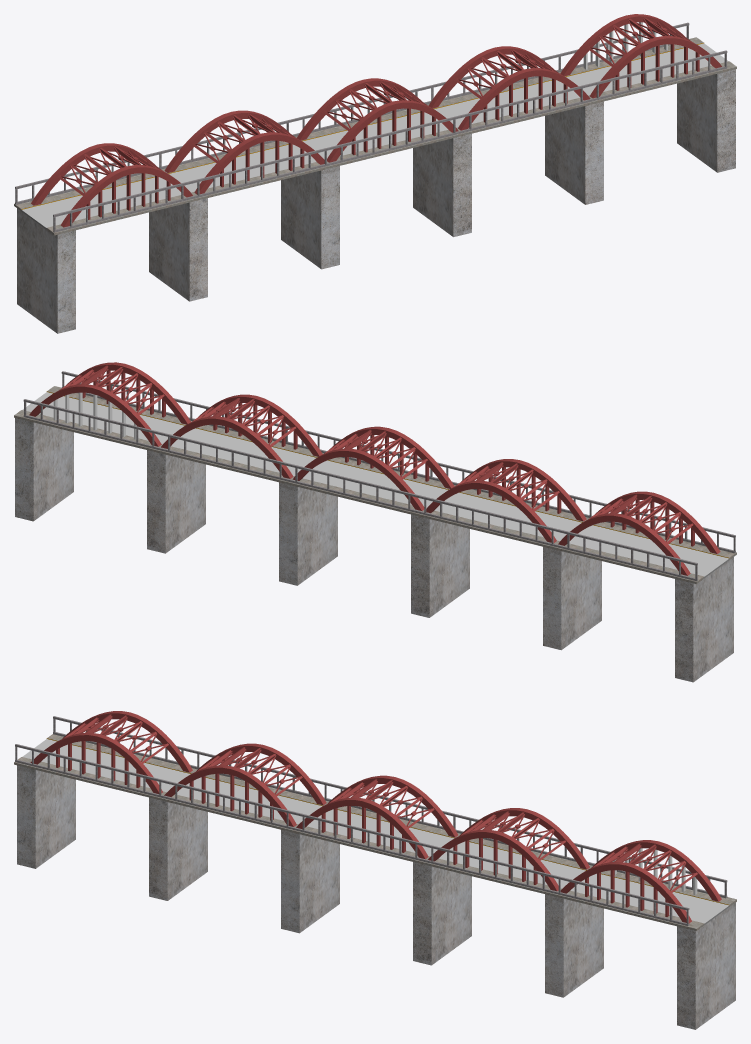
File: bridge.FBX
3 renders of one model, top to bottom at view 1: azimuth 30°, elevation 25°; view 2: azimuth 150°, elevation 25°; view 3: azimuth 330°, elevation 25°, orthographic.
Parts seen in each view (by area): view 1: Group001, Box005, Railing004, Line008, Line010, Line012, Line011, Line009, Railing003, Line007; view 2: Group001, Box005, Railing003, Line011, Line012, Line009, Line010, Line008, Railing004, Line007; view 3: Group001, Box005, Railing004, Line008, Line011, Line012, Line010, Line009, Railing003, Line007.
Boxes of the visible parts, x1=… form: Group001: x1=17, y1=69, x2=735, y2=333; Box005: x1=14, y1=37, x2=736, y2=235; Railing004: x1=53, y1=50, x2=727, y2=232; Line008: x1=560, y1=14, x2=721, y2=98; Line010: x1=297, y1=78, x2=458, y2=162; Line012: x1=31, y1=143, x2=192, y2=227; Line011: x1=164, y1=110, x2=324, y2=194; Line009: x1=428, y1=46, x2=590, y2=130; Railing003: x1=15, y1=22, x2=689, y2=204; Line007: x1=583, y1=22, x2=667, y2=69; Group001: x1=15, y1=418, x2=733, y2=682; Box005: x1=14, y1=386, x2=736, y2=583; Railing003: x1=23, y1=399, x2=697, y2=581; Line011: x1=426, y1=459, x2=586, y2=542; Line012: x1=558, y1=491, x2=720, y2=575; Line009: x1=161, y1=394, x2=322, y2=478; Line010: x1=292, y1=426, x2=454, y2=510; Line008: x1=29, y1=362, x2=190, y2=446; Railing004: x1=61, y1=371, x2=735, y2=553; Line007: x1=53, y1=392, x2=136, y2=439; Group001: x1=17, y1=765, x2=735, y2=1029; Box005: x1=14, y1=734, x2=736, y2=930; Railing004: x1=15, y1=744, x2=689, y2=925; Line008: x1=560, y1=840, x2=721, y2=923; Line011: x1=164, y1=743, x2=326, y2=826; Line012: x1=30, y1=711, x2=192, y2=793; Line010: x1=296, y1=775, x2=457, y2=859; Line009: x1=428, y1=808, x2=589, y2=891; Railing003: x1=53, y1=716, x2=727, y2=898; Line007: x1=613, y1=848, x2=697, y2=894.
Size of the model in its own units: 741 by 149 by 75.92.
